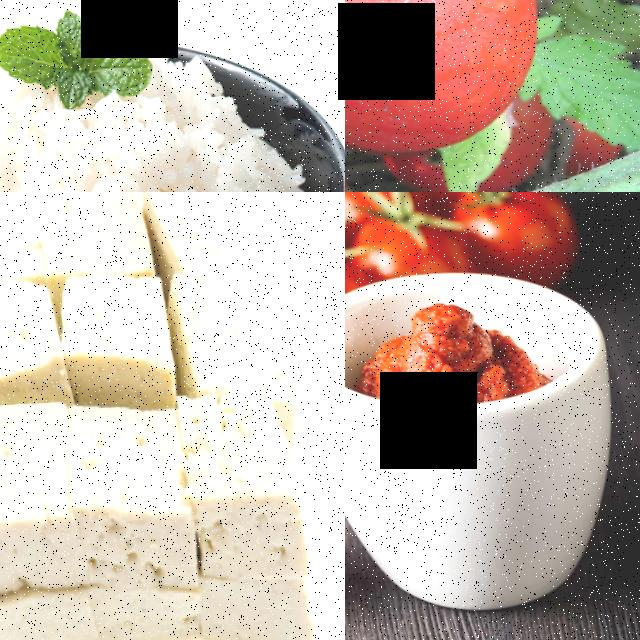tofu: (160, 374, 313, 640), (53, 396, 194, 600), (156, 264, 288, 394), (48, 266, 172, 402), (0, 397, 78, 597), (34, 192, 151, 276), (0, 276, 62, 400)
tomato: (345, 0, 552, 163), (450, 192, 587, 279)
white rice: (0, 97, 318, 192)
